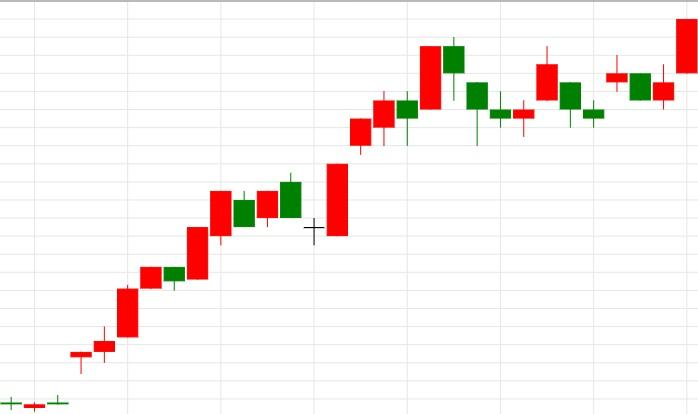three_black_crows_fall: (304, 37, 512, 246)
